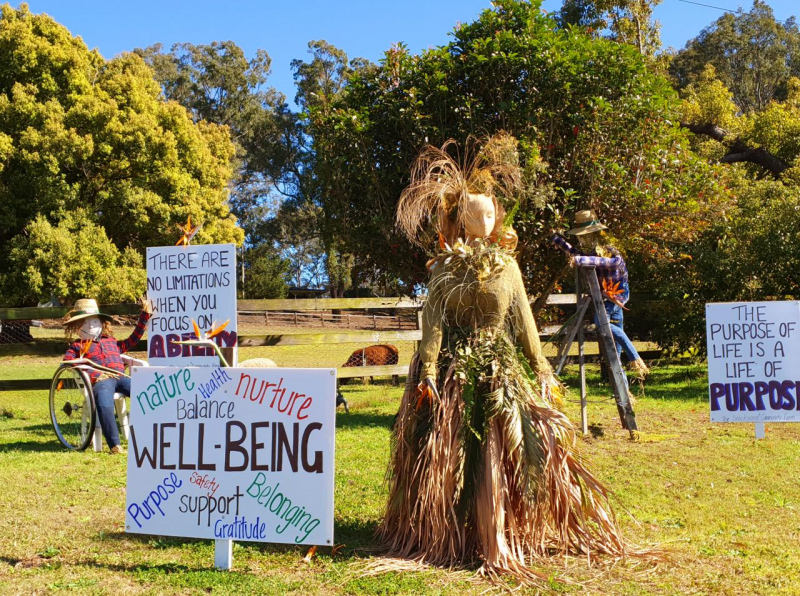person-like: (386, 146, 627, 576), (47, 287, 152, 450), (564, 195, 653, 381)
